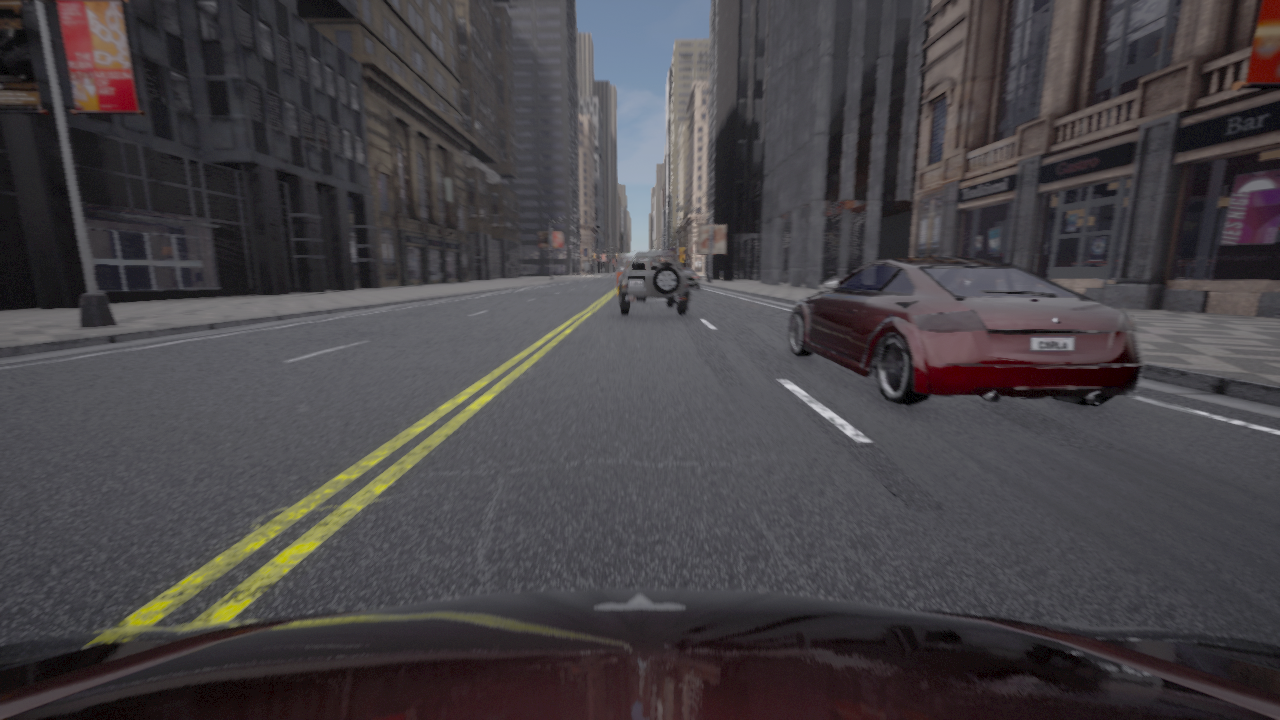cyclist: (0, 588, 1279, 719), (788, 257, 1144, 406), (618, 251, 689, 315), (616, 254, 634, 298), (682, 268, 699, 289)
